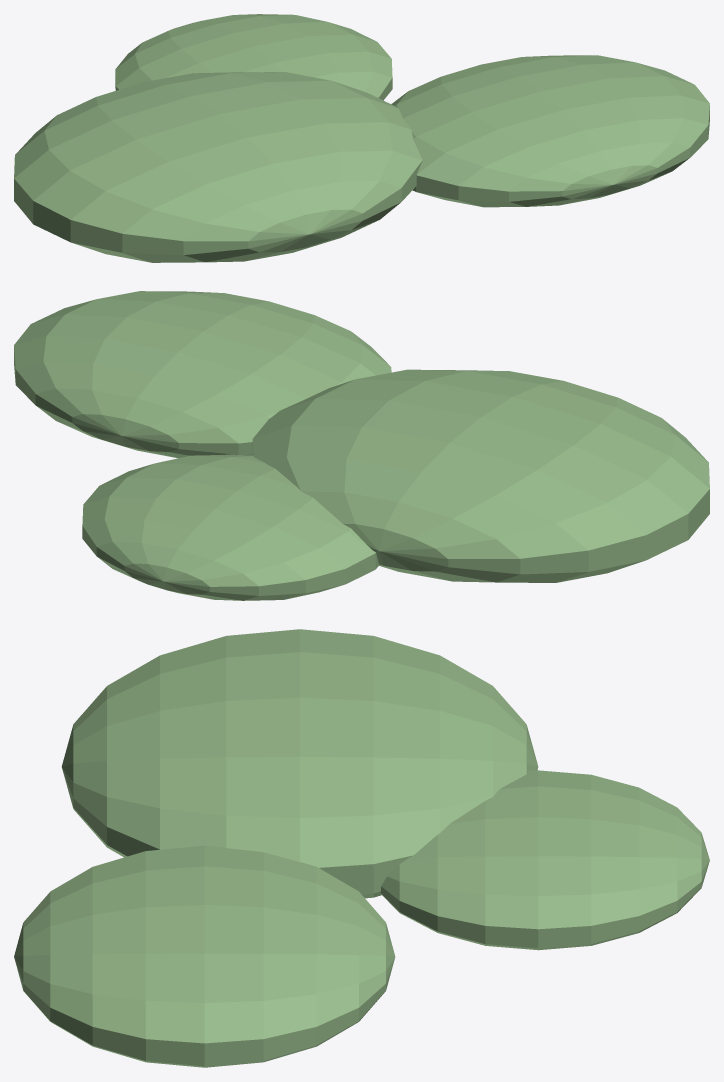
The model's file is buttonwood_mounds.glb.
3 views of the same model, one above another, from view 1: azimuth 30°, elevation 25°; view 2: azimuth 150°, elevation 25°; view 3: azimuth 270°, elevation 25° (orthographic). The views are drawn at different scales.
Parts seen in each view (by area): view 1: mound1, mound2, mound3; view 2: mound1, mound2, mound3; view 3: mound1, mound2, mound3.
Part boxes in pixels (<box>): mound1: <box>14,72,422,262</box>; mound2: <box>391,55,709,207</box>; mound3: <box>115,14,392,100</box>; mound1: <box>252,369,709,582</box>; mound2: <box>14,291,391,458</box>; mound3: <box>82,454,379,600</box>; mound1: <box>61,629,538,898</box>; mound2: <box>14,845,395,1067</box>; mound3: <box>379,770,709,950</box>.
Size of the model in its own units: 9.86 by 1.6 by 7.3.
